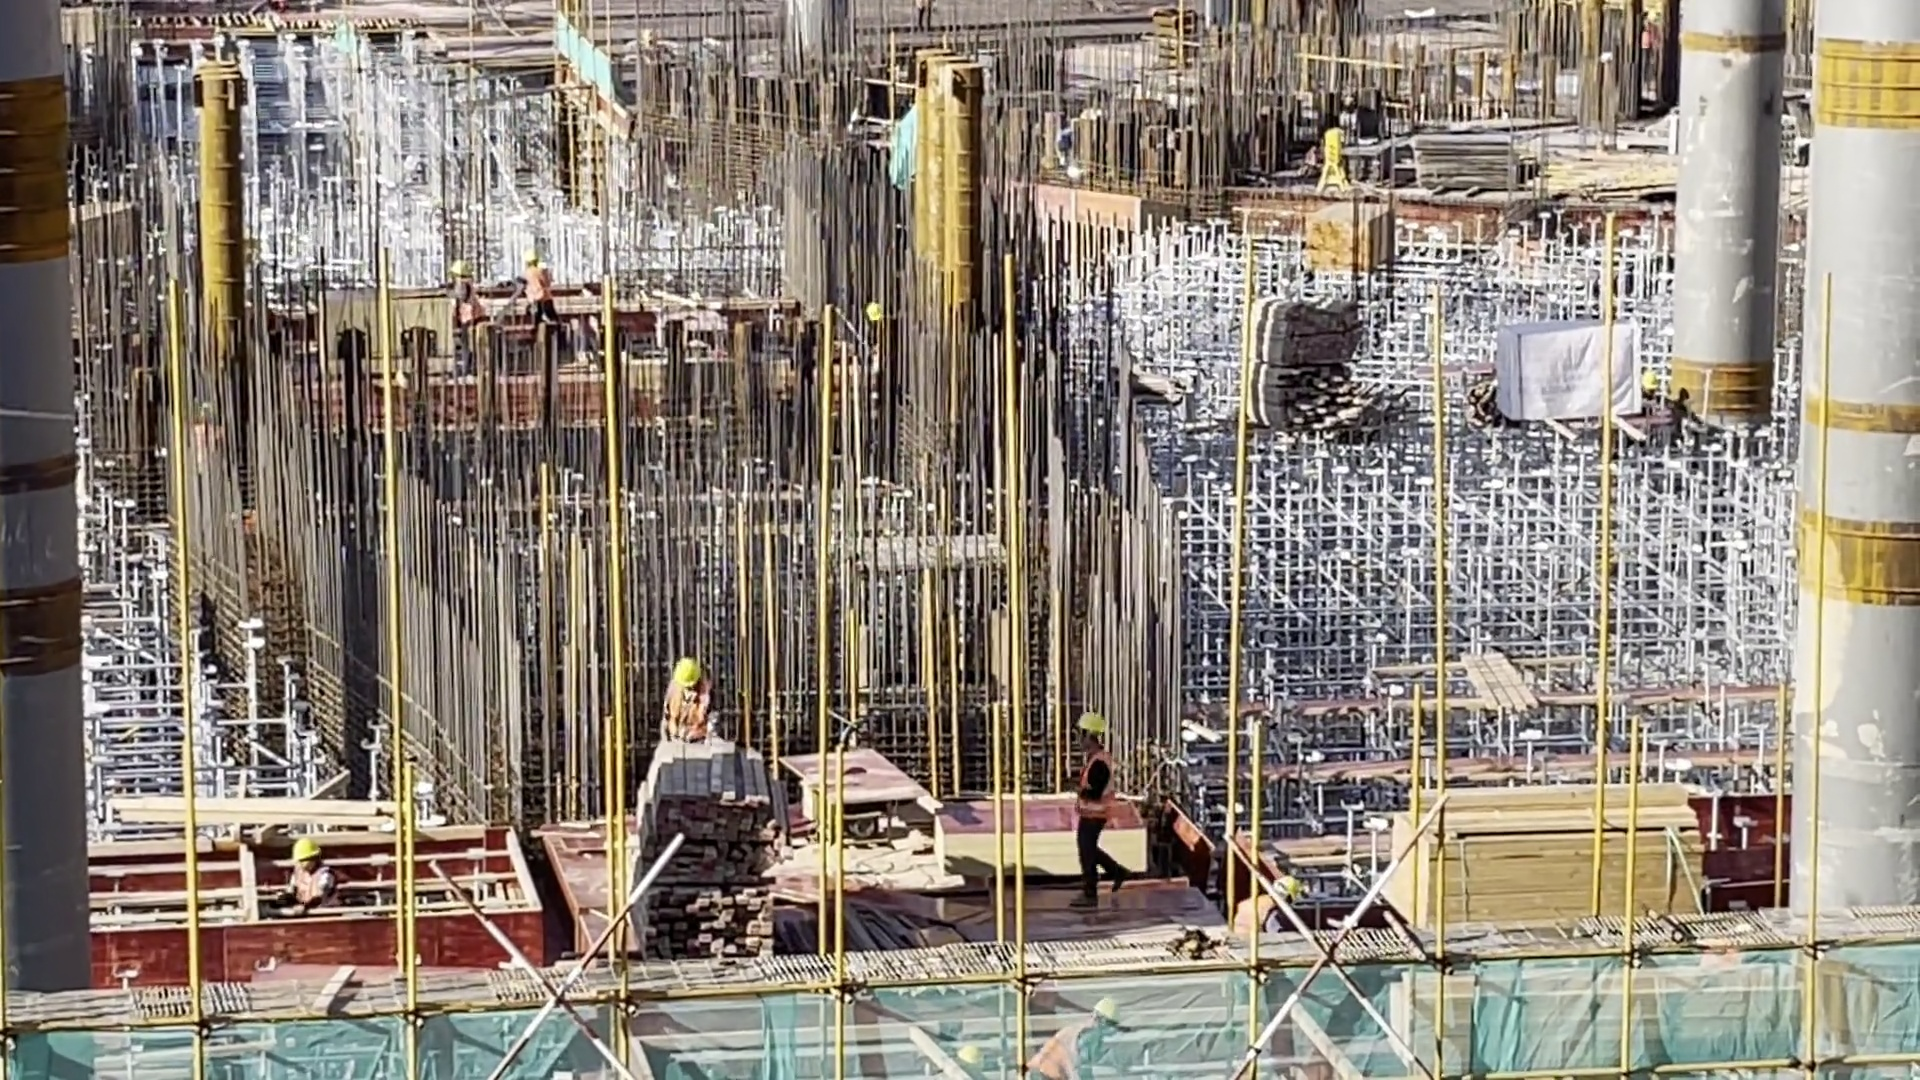helmet: (667, 656, 704, 686), (1271, 867, 1304, 900), (287, 835, 320, 863), (1076, 708, 1108, 734), (1093, 997, 1119, 1027), (449, 248, 470, 271), (523, 248, 539, 261)
person: (1066, 693, 1132, 926), (1219, 856, 1334, 949), (654, 638, 741, 761), (426, 249, 499, 352), (511, 226, 567, 354), (282, 838, 340, 950)
vest: (1012, 978, 1120, 1080), (1035, 1009, 1094, 1075), (1072, 745, 1113, 829), (661, 682, 716, 735), (285, 863, 331, 907), (1231, 896, 1279, 937), (448, 289, 486, 326), (526, 265, 556, 297)
